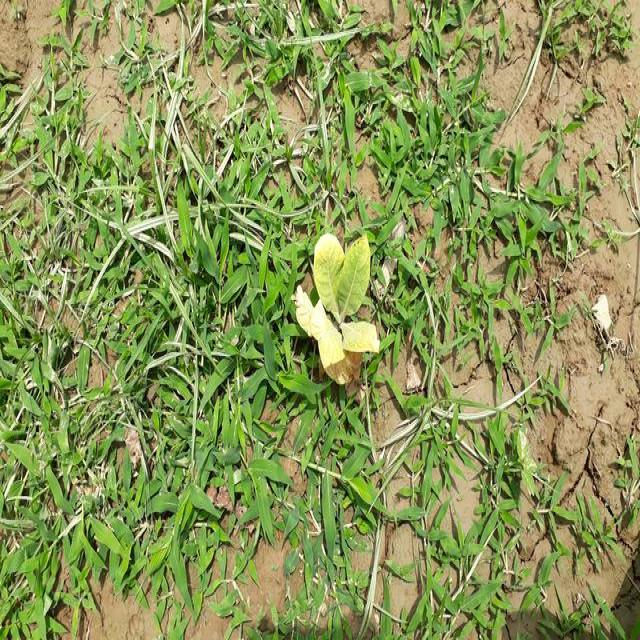crop: (297, 220, 388, 392)
